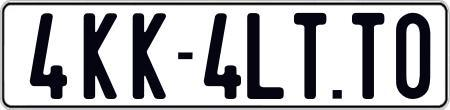0: (394, 12, 429, 101)
4: (30, 12, 69, 103), (203, 11, 241, 103)
K: (131, 11, 169, 99), (81, 12, 116, 103)
L: (247, 13, 284, 101)
T: (350, 10, 387, 100), (291, 13, 328, 99)
